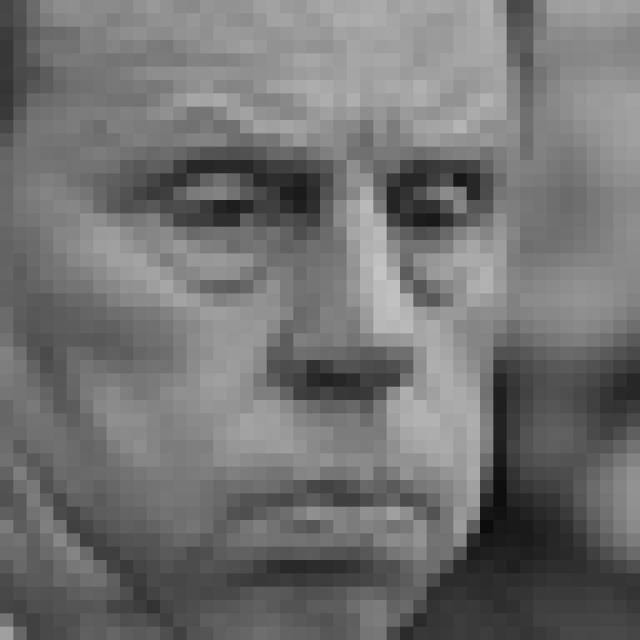disgust: (122, 72, 496, 593)
